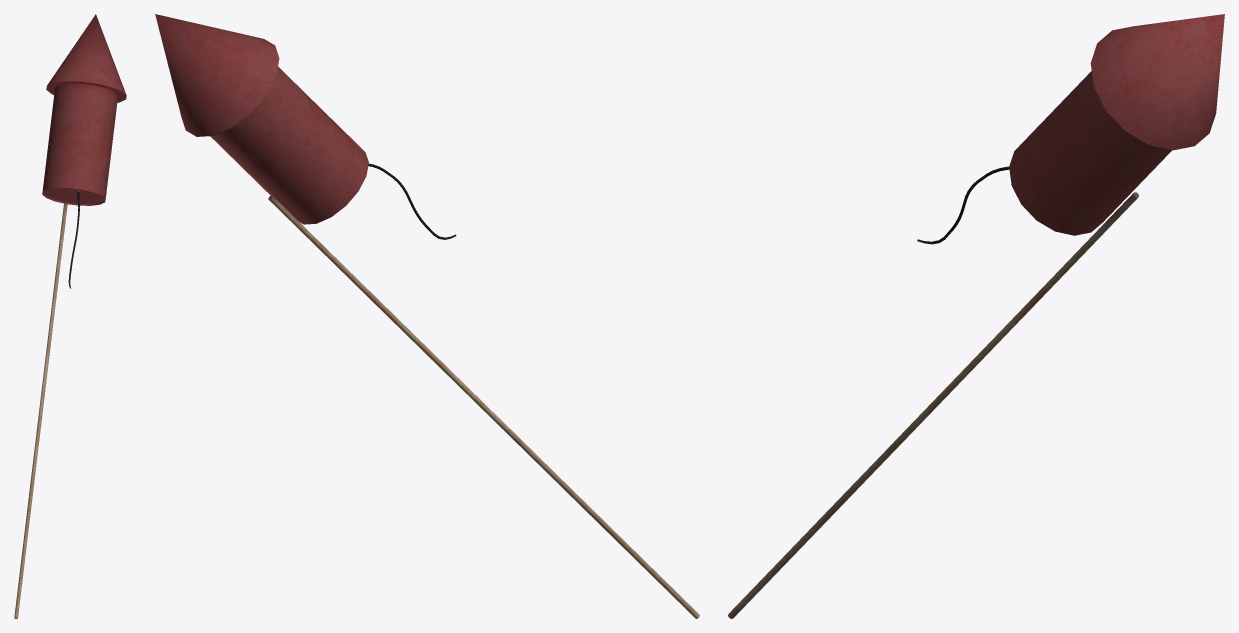
Rendered from firework_red_rocket-XGrkLKhc.glb.
3 views of the same model, side by side, from view 1: azimuth 30°, elevation 25°; view 2: azimuth 150°, elevation 25°; view 3: azimuth 270°, elevation 25° (orthographic). The views are drawn at different scales.
Visible parts, largest first — view 1: rckt_0; view 2: rckt_0; view 3: rckt_0.
Part boxes in pixels (x1,y1,x2,y2): rckt_0: (14,14,126,618); rckt_0: (155,14,699,618); rckt_0: (728,14,1224,618).
Bounding box in the file's own units: 2.07 × 3.98 × 2.26.
1 material, 1 textured.
